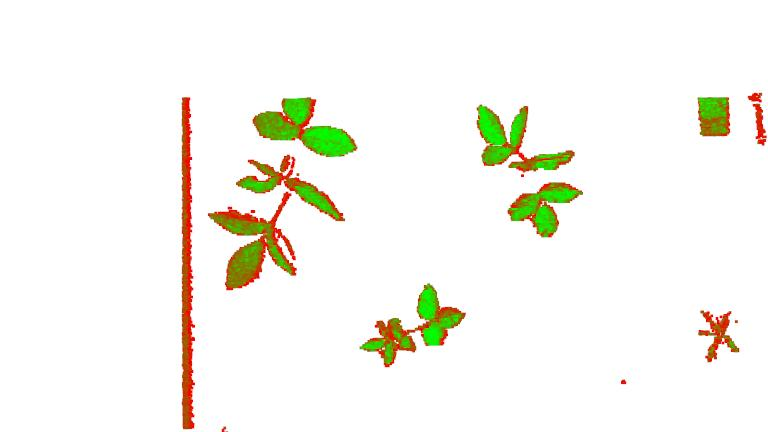mungbean: (208, 92, 361, 297), (471, 100, 580, 238), (360, 287, 468, 364)
